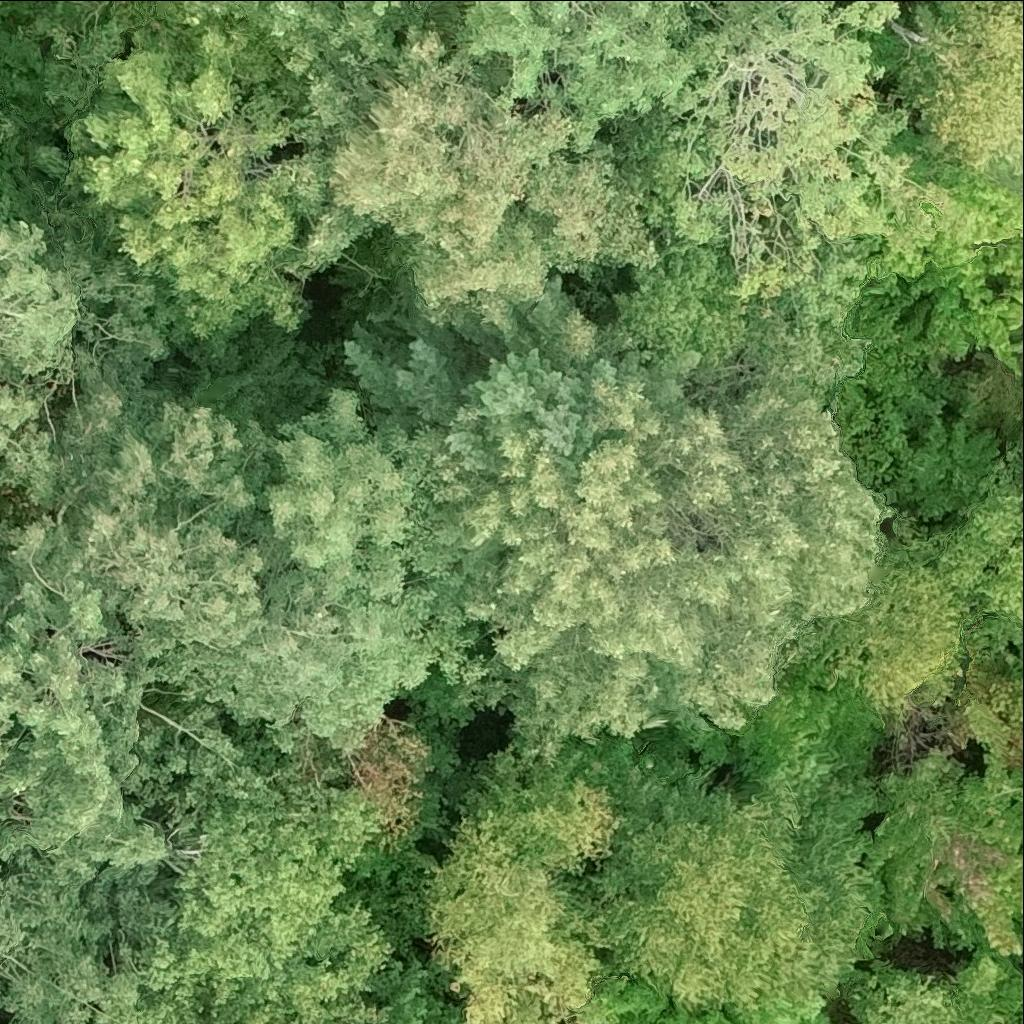crown: (417, 376, 892, 765), (185, 0, 660, 332), (605, 0, 973, 394), (147, 386, 494, 753), (0, 407, 259, 886), (562, 754, 883, 1020), (71, 12, 324, 345), (345, 273, 704, 479), (138, 779, 385, 1023), (425, 743, 624, 1023), (858, 706, 1023, 961), (785, 502, 974, 713), (863, 133, 1023, 371), (458, 0, 688, 152), (0, 112, 82, 504), (895, 0, 1023, 172), (911, 432, 1023, 626), (215, 932, 391, 1023), (848, 952, 1023, 1023), (579, 984, 832, 1023), (0, 901, 36, 992), (377, 0, 397, 9), (0, 861, 0, 871)
